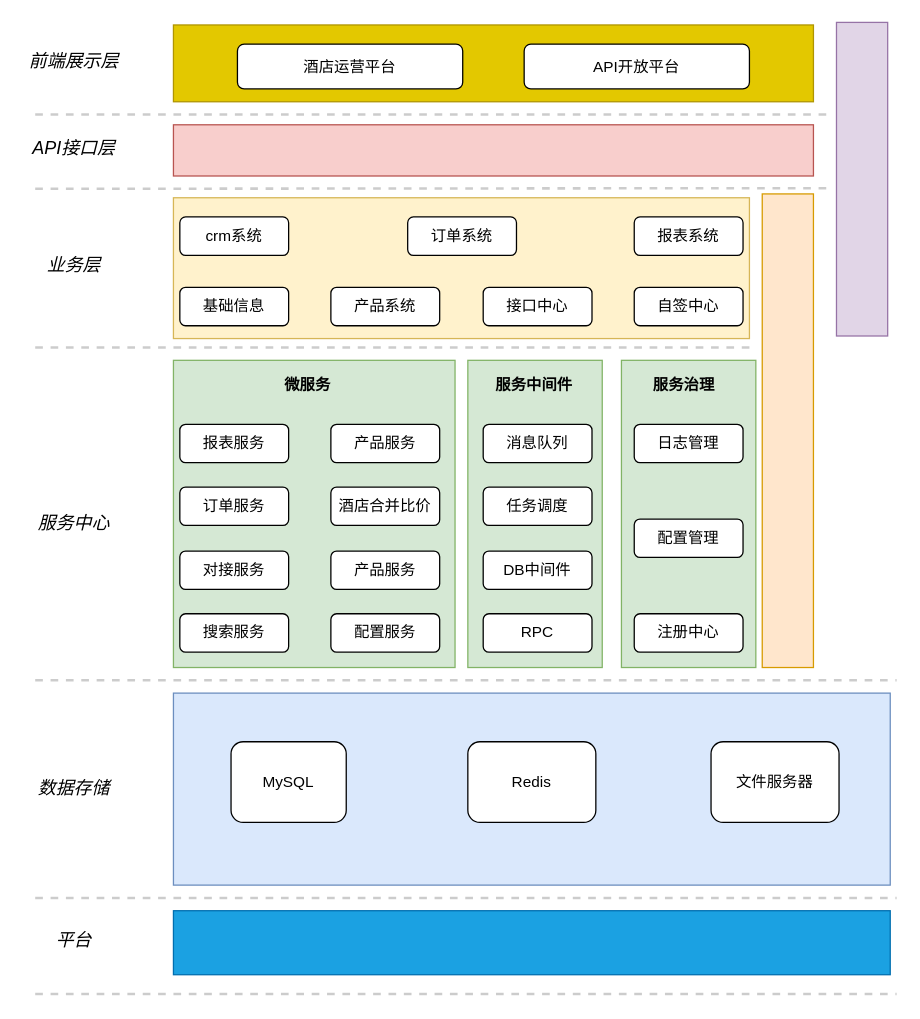
Some shapes in this 920 by 1019 pixel diagram are drawn without their labels. The centre of each missing label's shape, as x and y in pixels:
"API网关--鉴权" belongs at point (492, 150).
"NGINX负载均衡" belongs at point (861, 178).
"日志记录" belongs at point (787, 430).
"阿里云" belongs at point (531, 942).
